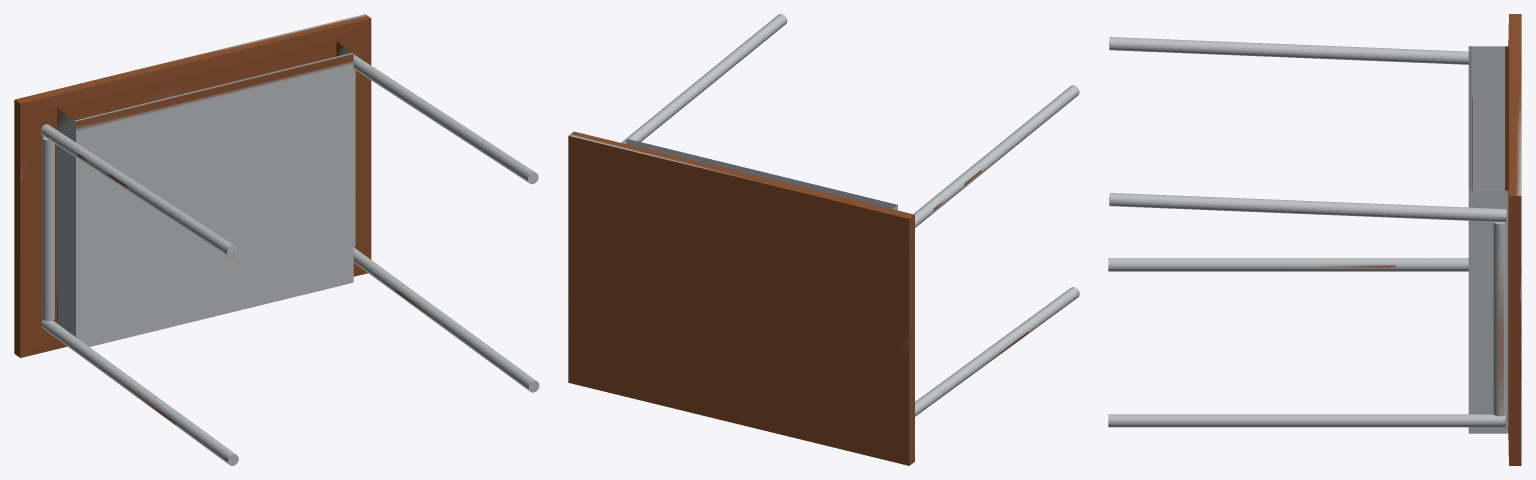
The model's file is Desk1.fbx.
The picture shows the model from 3 angles, left to right: view 1: azimuth 30°, elevation 25°; view 2: azimuth 150°, elevation 25°; view 3: azimuth 270°, elevation 25°; orthographic projection. The views are drawn at different scales.
Visible parts, largest first — view 1: Desk; view 2: Desk; view 3: Desk.
Part boxes in pixels (left/top/right/bottom): Desk: left=14, top=14, right=539, bottom=465; Desk: left=568, top=14, right=1079, bottom=465; Desk: left=1108, top=14, right=1521, bottom=465.
Bounding box in the file's own units: 13000 × 9000 × 12479.
1 material, 1 textured.
